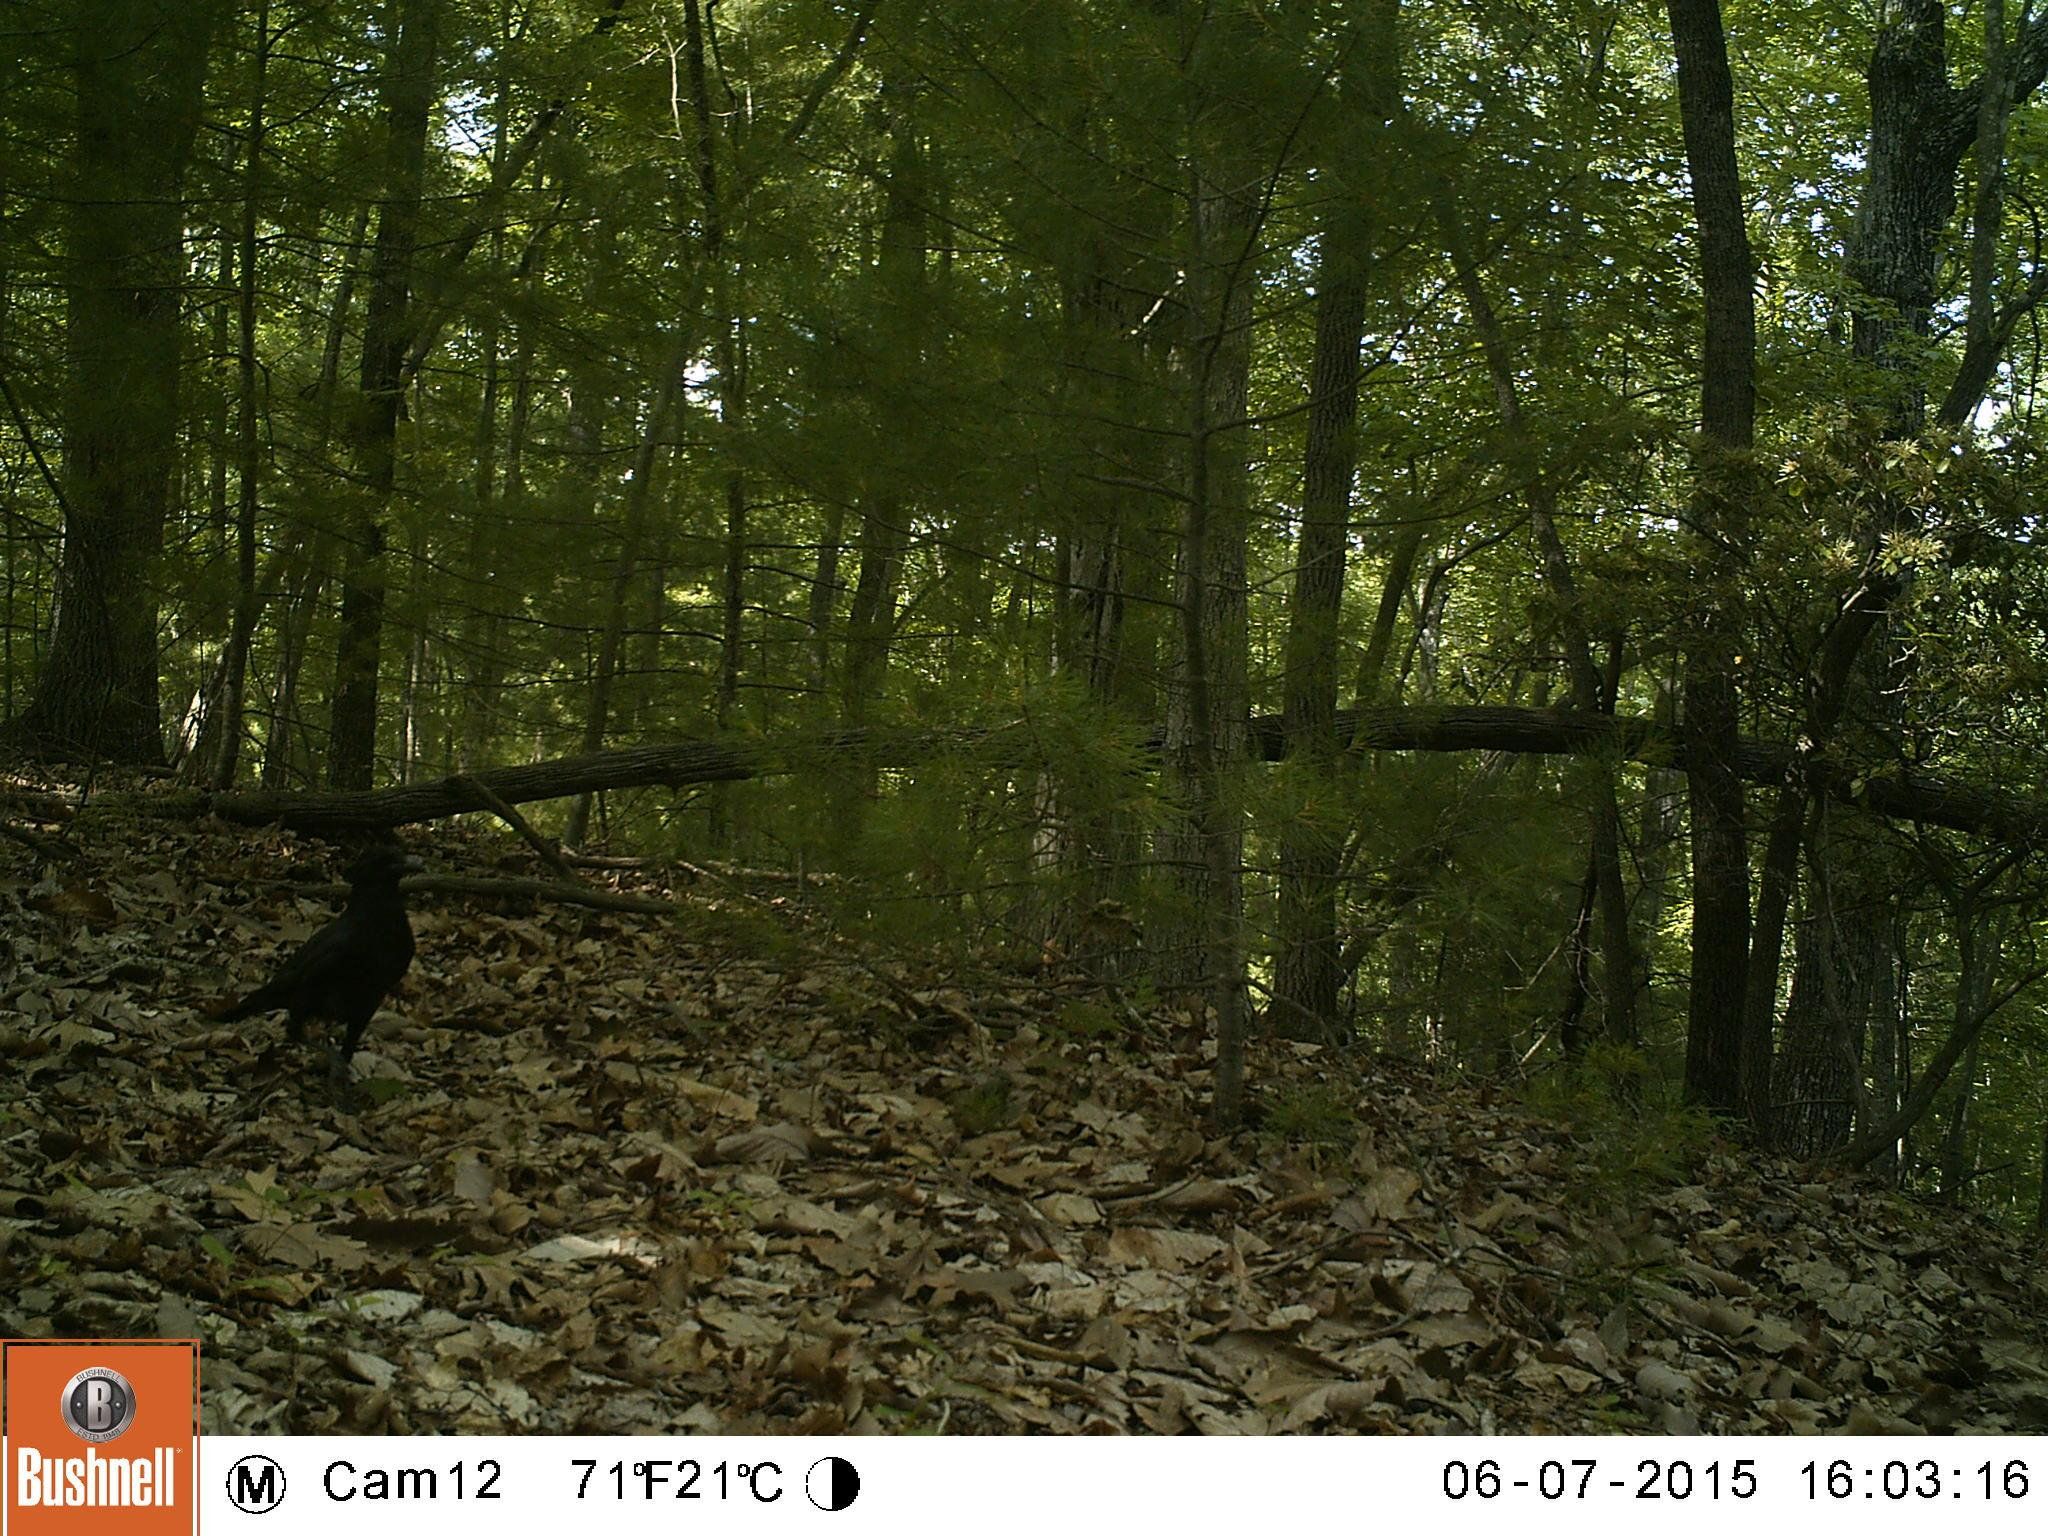Animal: (234, 850, 424, 1076)
